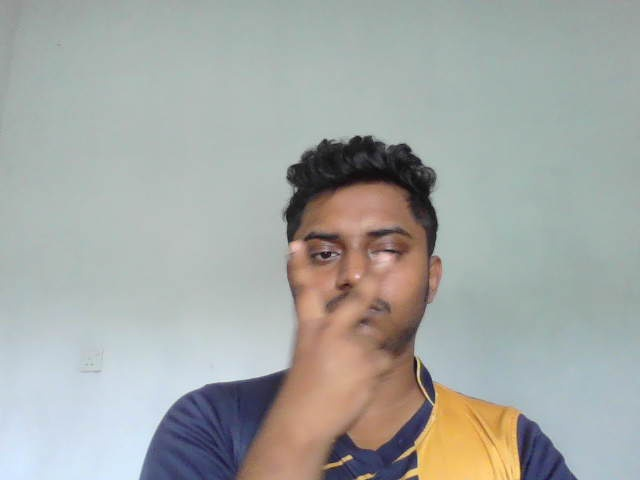See You: (278, 238, 392, 425)
